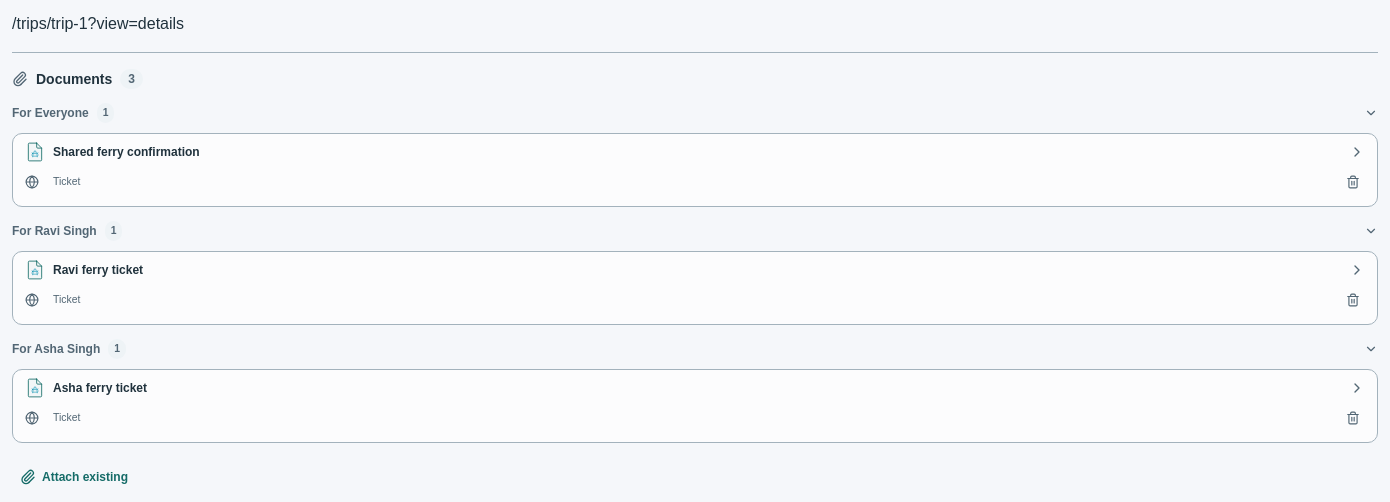
Test: event document cards › groups associated documents by traveler while keeping shared documents together
Expected: the text "Shared ferry confirmation" is shown, [53,145,200,159]
Expected: the text "Asha ferry ticket" is shown, [53,381,147,395]
Click the button with aria-label "Collapse documents for Asha Singh" at [56, 349], box [12,329,1378,369]
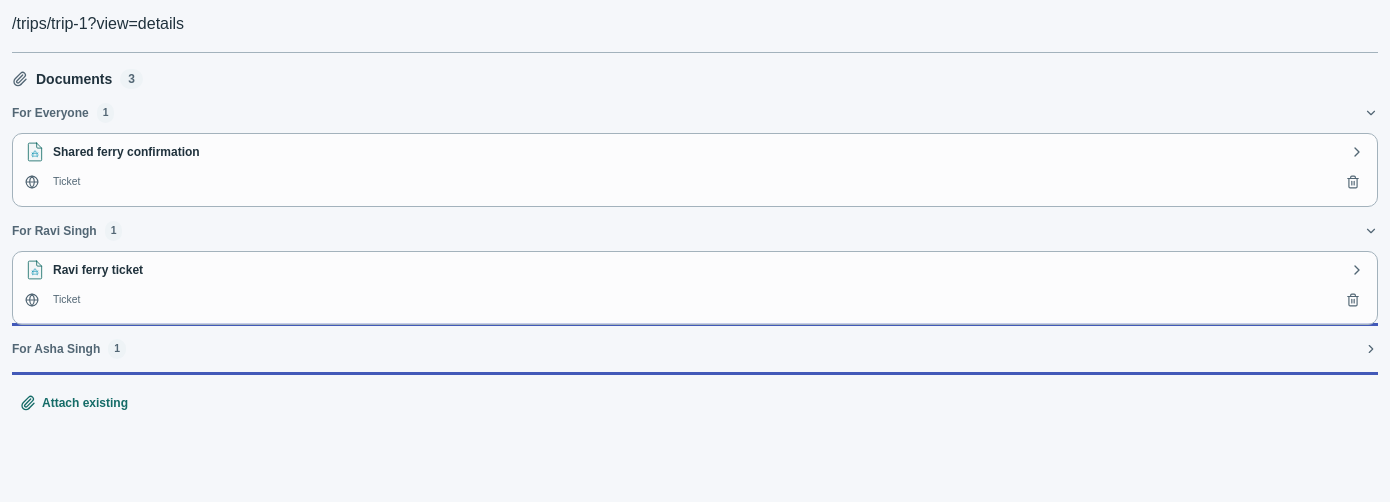
Expected: the text "Shared ferry confirmation" is shown, [53,145,200,159]
Result: the link "Asha ferry ticket" is gone
Result: the button with aria-label "Expand documents for Asha Singh" is collapsed at [12,329,1378,369]
